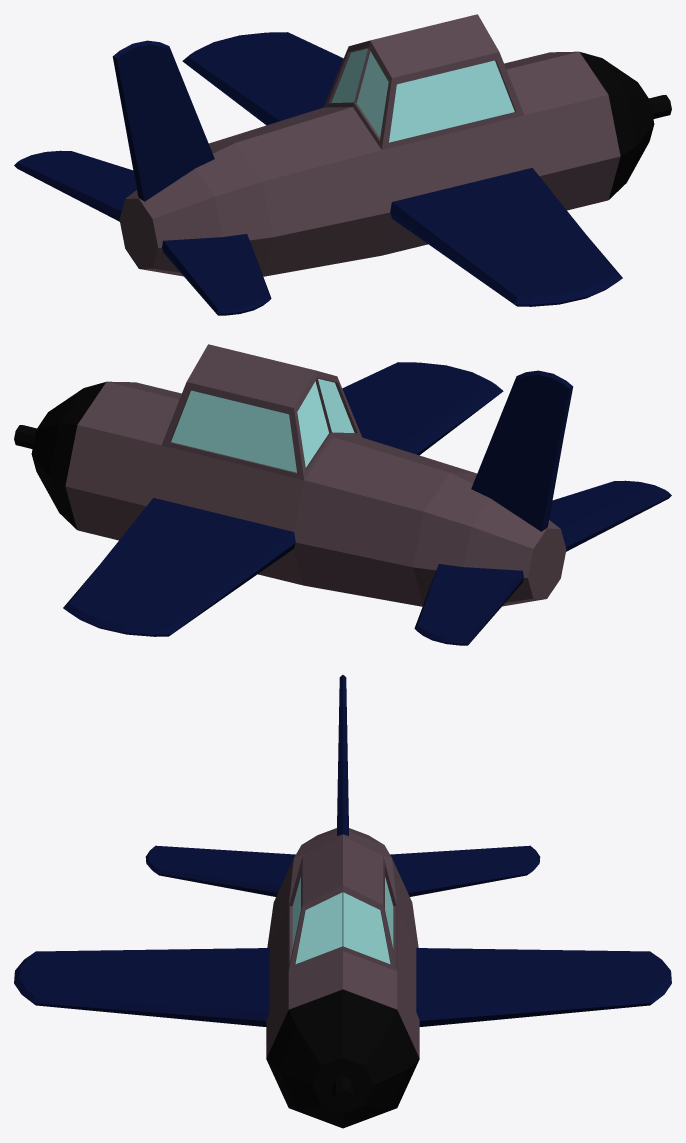
File: plane_good_body.fbx
The picture shows the model from 3 angles, top to bottom: view 1: azimuth 30°, elevation 25°; view 2: azimuth 150°, elevation 25°; view 3: azimuth 270°, elevation 25°; orthographic projection. The views are drawn at different scales.
Parts seen in each view (by area): view 1: wings; view 2: wings; view 3: wings.
Boxes of the visible parts, left/top/right/bottom form: wings: left=14, top=14, right=671, bottom=315; wings: left=14, top=344, right=671, bottom=645; wings: left=14, top=675, right=671, bottom=1128.
Size of the model in its own units: 777 by 357 by 857.
